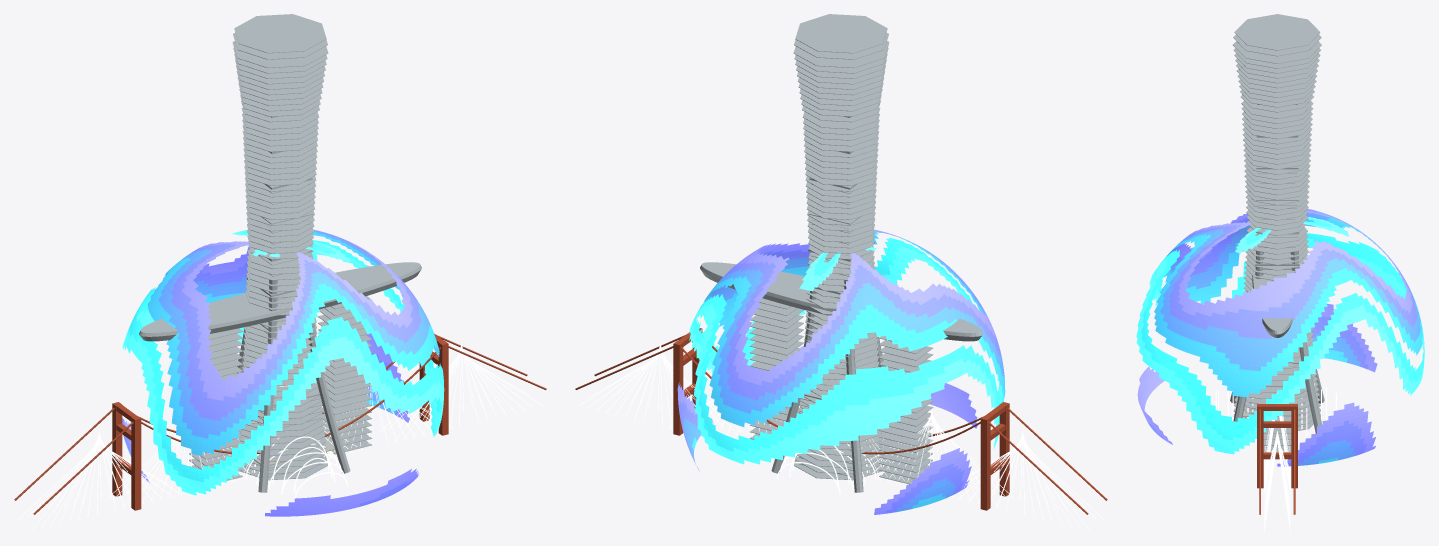
File: Catalog-51.glb
The picture shows the model from 3 angles, left to right: view 1: azimuth 30°, elevation 25°; view 2: azimuth 150°, elevation 25°; view 3: azimuth 270°, elevation 25°; orthographic projection. The views are drawn at different scales.
Parts seen in each view (by area): view 1: Metropolis Silver (×4), Metropolis Sphere Screen 05, Metropolis Sphere Screen 11, Metropolis Sphere Screen 07, Metropolis Sphere Screen 06, Metropolis Sphere Screen 10, Metropolis Sphere Screen 08, Metropolis White, Metropolis Red; view 2: Metropolis Silver (×4), Metropolis Sphere Screen 11, Metropolis Sphere Screen 10, Metropolis Sphere Screen 05, Metropolis Sphere Screen 07, Metropolis Sphere Screen 08, Metropolis Sphere Screen 06, Metropolis Red, Metropolis White; view 3: Metropolis Silver (×4), Metropolis Sphere Screen 07, Metropolis Sphere Screen 05, Metropolis Sphere Screen 06, Metropolis Sphere Screen 08, Metropolis Sphere Screen 10, Metropolis Sphere Screen 11, Metropolis Red, Metropolis White.
Part boxes in pixels (x1,y1,x2,y2): Metropolis Silver (×4): [139, 14, 421, 492]; Metropolis Sphere Screen 05: [122, 230, 418, 516]; Metropolis Sphere Screen 11: [122, 230, 443, 495]; Metropolis Sphere Screen 07: [124, 230, 430, 456]; Metropolis Sphere Screen 06: [123, 230, 421, 506]; Metropolis Sphere Screen 10: [128, 231, 444, 482]; Metropolis Sphere Screen 08: [147, 232, 439, 456]; Metropolis White: [16, 344, 544, 531]; Metropolis Red: [14, 333, 546, 514]; Metropolis Silver (×4): [700, 14, 982, 492]; Metropolis Sphere Screen 11: [689, 244, 1002, 464]; Metropolis Sphere Screen 10: [692, 238, 1003, 452]; Metropolis Sphere Screen 05: [677, 231, 995, 514]; Metropolis Sphere Screen 07: [683, 230, 1004, 511]; Metropolis Sphere Screen 08: [692, 232, 1005, 508]; Metropolis Sphere Screen 06: [678, 230, 1001, 513]; Metropolis Red: [575, 328, 1107, 514]; Metropolis White: [577, 344, 1105, 531]; Metropolis Silver (×4): [1230, 14, 1324, 451]; Metropolis Sphere Screen 07: [1160, 210, 1420, 465]; Metropolis Sphere Screen 05: [1137, 211, 1412, 466]; Metropolis Sphere Screen 06: [1145, 208, 1417, 466]; Metropolis Sphere Screen 08: [1154, 217, 1422, 463]; Metropolis Sphere Screen 10: [1141, 218, 1424, 440]; Metropolis Sphere Screen 11: [1136, 217, 1424, 454]; Metropolis Red: [1257, 404, 1297, 514]; Metropolis White: [1264, 391, 1290, 531].
Size of the model in its own units: 652 by 524 by 352.
